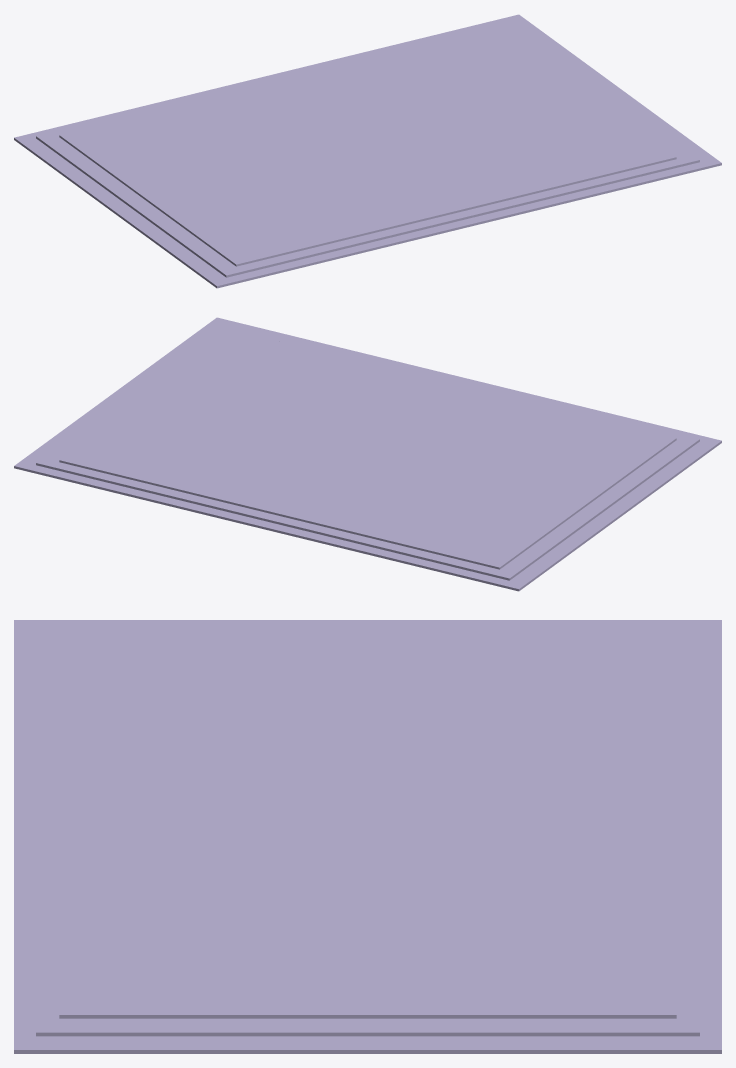
The model's file is RuinsPlatform.fbx.
The picture shows the model from 3 angles, top to bottom: view 1: azimuth 30°, elevation 25°; view 2: azimuth 150°, elevation 25°; view 3: azimuth 270°, elevation 25°; orthographic projection. The views are drawn at different scales.
Visible parts, largest first — view 1: RuinsPlatform; view 2: RuinsPlatform; view 3: RuinsPlatform.
Part boxes in pixels (x1,y1,x2,y2): RuinsPlatform: (14, 14, 721, 288); RuinsPlatform: (14, 317, 721, 591); RuinsPlatform: (14, 620, 721, 1053).
Size of the model in its own units: 1796 by 22.21 by 1250.
